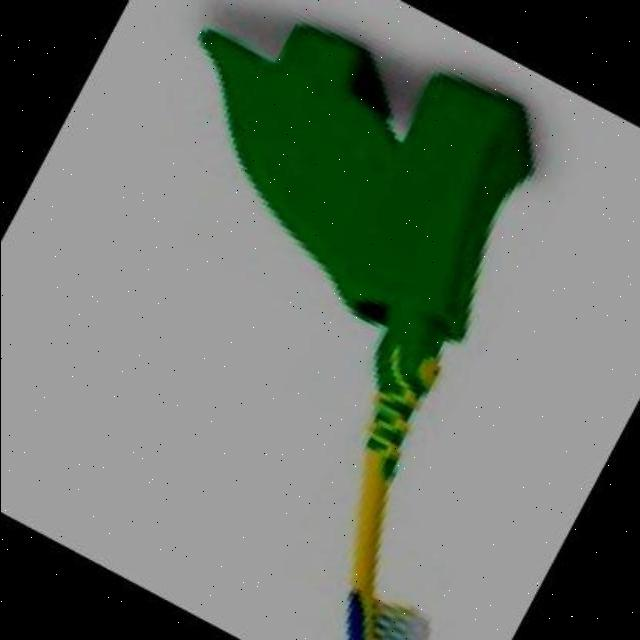toothbrush: (218, 250, 618, 638)
